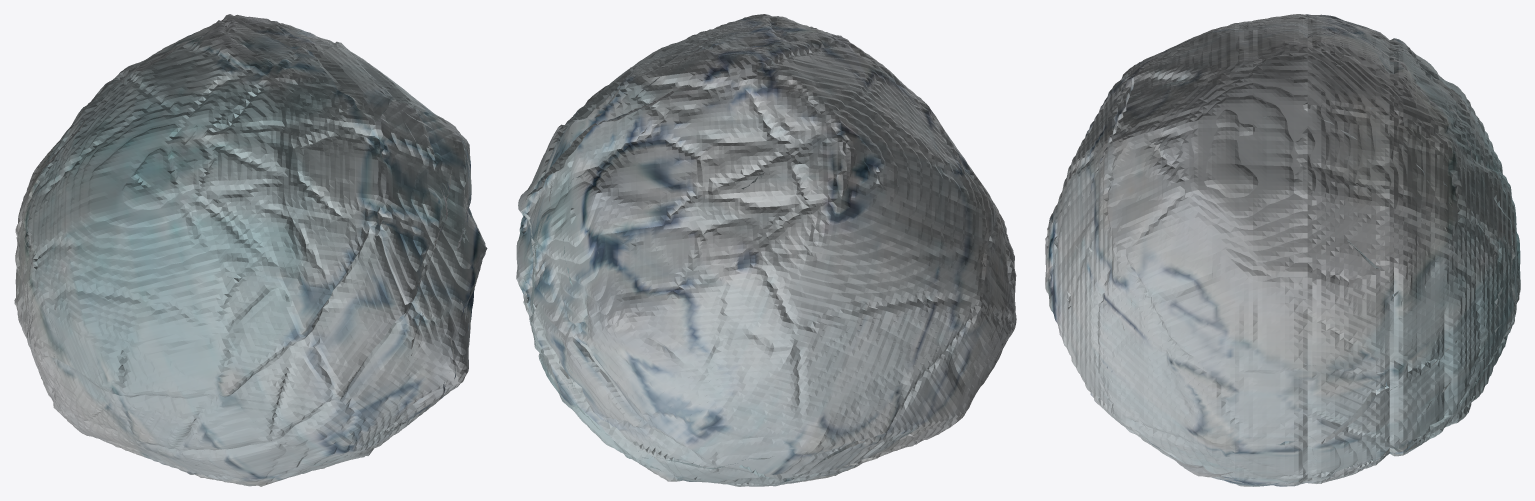
Rendered from onda.glb.
3 renders of one model, left to right at view 1: azimuth 30°, elevation 25°; view 2: azimuth 150°, elevation 25°; view 3: azimuth 270°, elevation 25°, orthographic. The views are drawn at different scales.
Visible parts, largest first — view 1: world; view 2: world; view 3: world.
Part boxes in pixels (x1,y1,x2,y2): world: (14,14,487,486); world: (516,14,1016,486); world: (1045,14,1520,486).
Bounding box in the file's own units: 0.9981 × 0.9723 × 0.9523.
